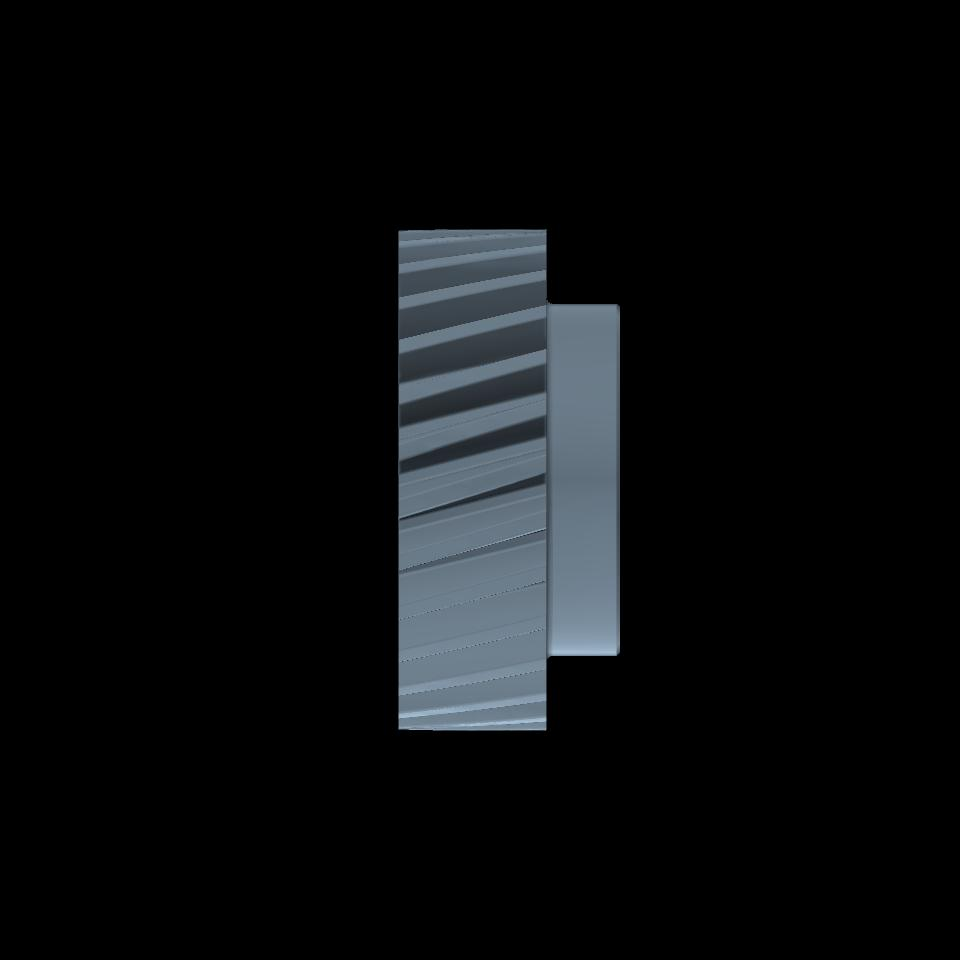Helical: (399, 229, 547, 730)
